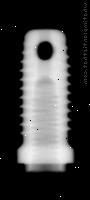Nobel Biocare: (16, 27, 75, 173)
